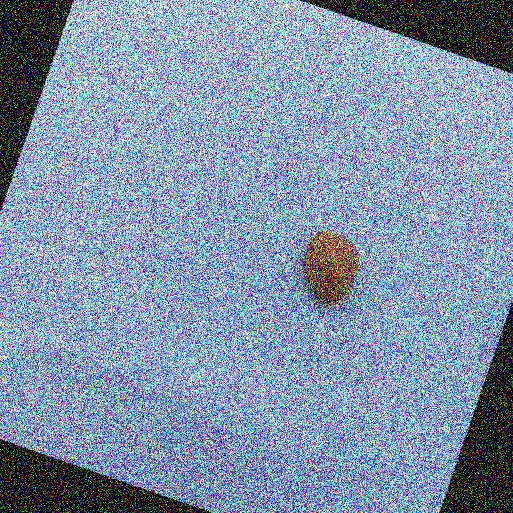grade2: (285, 222, 371, 315)
